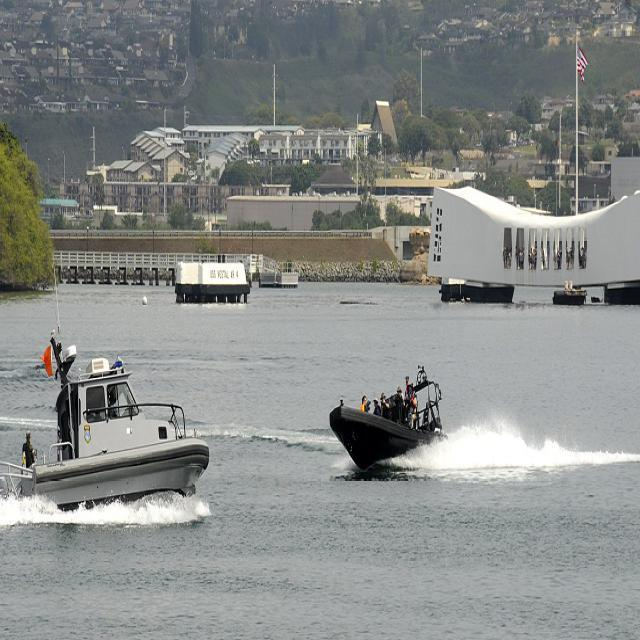ship: (0, 258, 212, 528), (322, 361, 454, 492)
